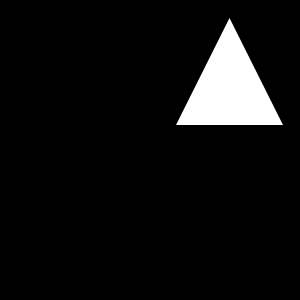triangle: (176, 18, 283, 125)
